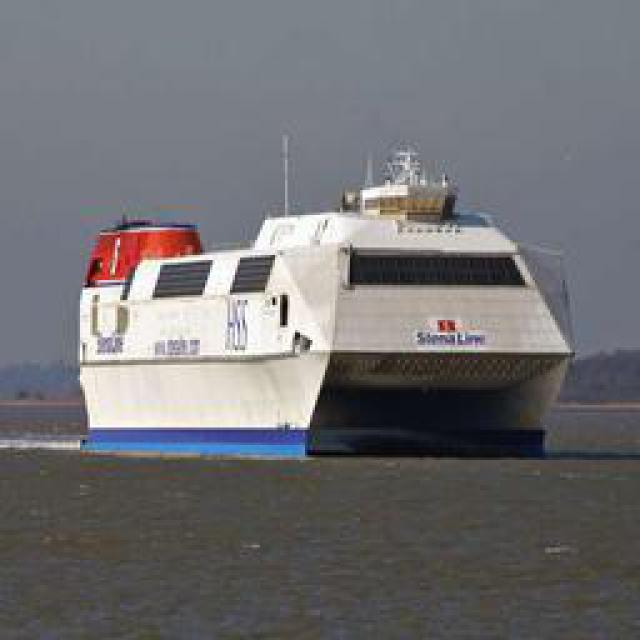Ship: (24, 151, 579, 451)
